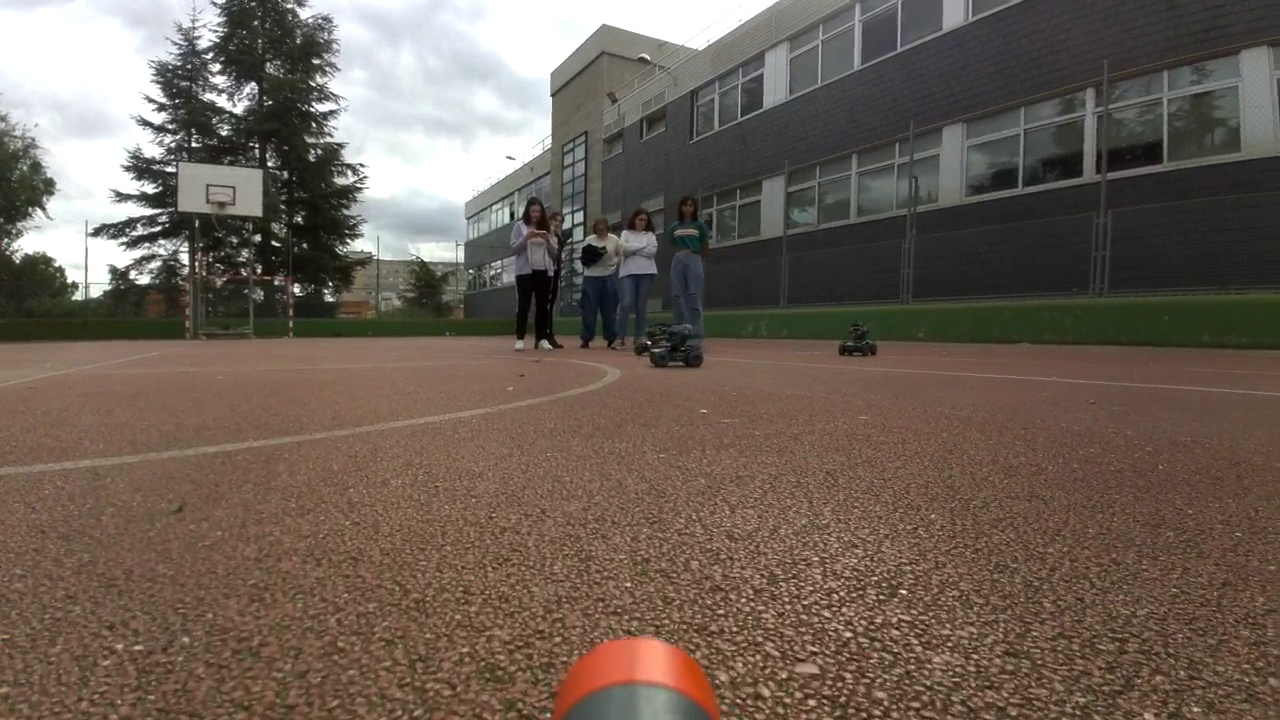robot: (648, 325, 703, 369), (838, 322, 875, 355)
